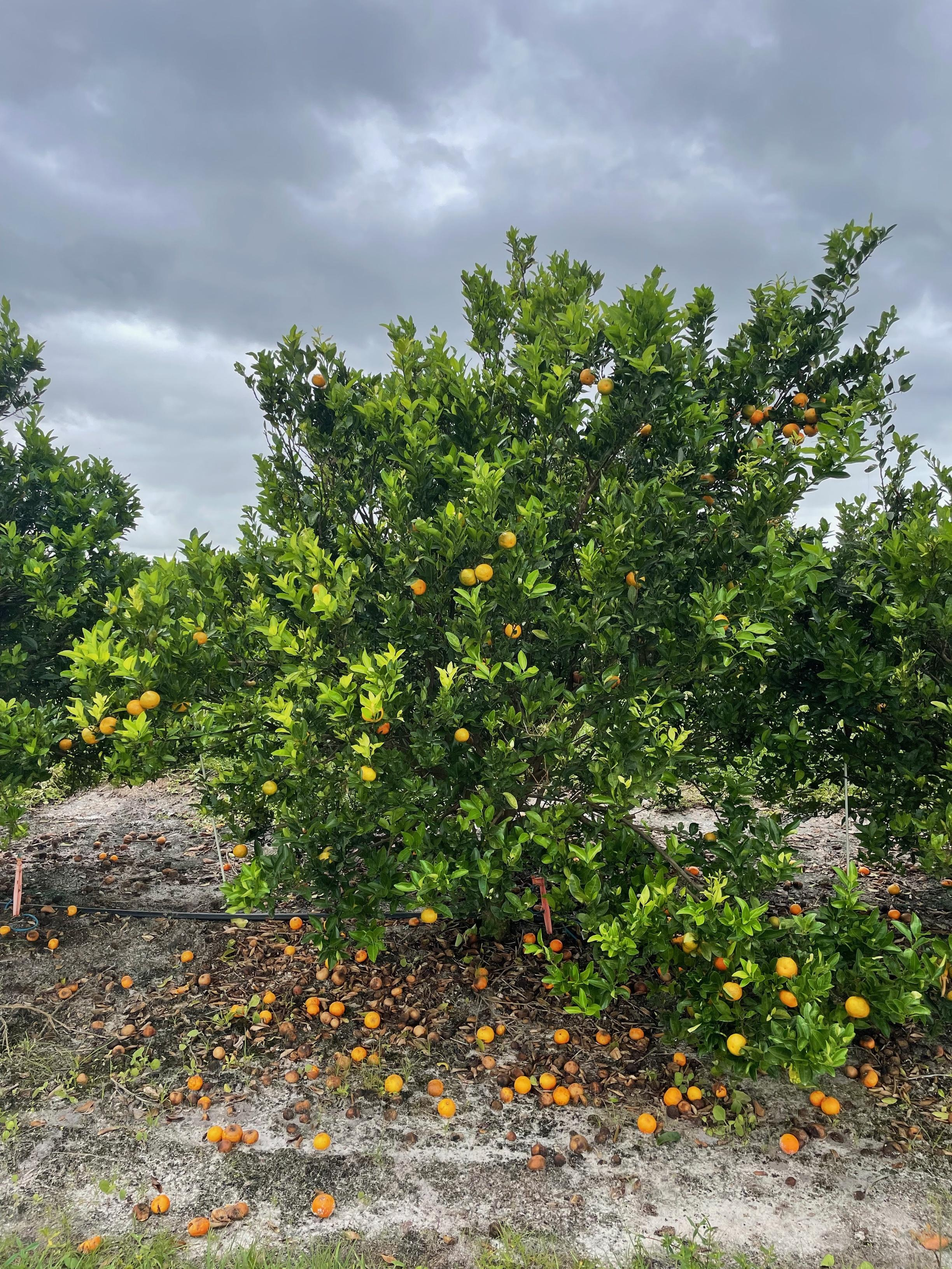fruit_on_ground: (843, 993, 872, 1020), (623, 567, 649, 591), (359, 702, 386, 725), (774, 956, 799, 980), (725, 1033, 749, 1057), (495, 528, 520, 551), (719, 979, 743, 1002), (473, 560, 495, 585), (291, 729, 315, 751), (501, 619, 524, 641), (98, 715, 121, 737), (458, 565, 480, 588), (577, 366, 599, 388), (80, 724, 102, 746), (126, 696, 147, 718), (139, 689, 161, 710), (595, 375, 616, 397), (169, 695, 192, 715), (452, 724, 473, 745), (748, 433, 769, 453), (681, 930, 701, 951), (781, 420, 802, 440), (259, 777, 280, 797), (358, 763, 378, 783), (408, 577, 428, 597), (778, 988, 799, 1007), (790, 391, 811, 409), (309, 371, 330, 389), (569, 667, 589, 685), (190, 629, 210, 647), (419, 906, 439, 924), (873, 696, 891, 715), (802, 421, 821, 439), (802, 406, 821, 424), (713, 954, 731, 972), (748, 408, 766, 426), (231, 843, 249, 860), (761, 405, 779, 421), (669, 930, 686, 946), (790, 431, 807, 447), (310, 582, 327, 598), (740, 403, 756, 420), (58, 737, 74, 752), (767, 914, 782, 929), (702, 831, 718, 844)
fruit_on_tree: (310, 1192, 336, 1219), (187, 1215, 211, 1237), (635, 1112, 658, 1134), (778, 1133, 800, 1155), (436, 1097, 457, 1118), (78, 1234, 101, 1253), (150, 1193, 171, 1213), (383, 1072, 404, 1092), (663, 1087, 683, 1107), (426, 1078, 446, 1098), (859, 1068, 880, 1087), (569, 1134, 590, 1153), (312, 1131, 333, 1150), (807, 1088, 827, 1107), (821, 1096, 841, 1115), (535, 1089, 556, 1107), (805, 1123, 826, 1141), (223, 1122, 242, 1141), (538, 1071, 557, 1090), (553, 1086, 572, 1105), (277, 1020, 297, 1038), (362, 1010, 382, 1028), (584, 1080, 605, 1097), (711, 1080, 729, 1099), (303, 996, 321, 1015), (476, 1024, 495, 1042), (552, 1026, 571, 1044), (526, 1154, 546, 1171), (514, 1074, 532, 1092), (205, 1125, 223, 1143), (185, 1073, 204, 1090), (568, 1081, 585, 1099), (671, 1050, 689, 1067), (686, 1083, 703, 1101), (594, 1028, 612, 1045), (329, 999, 347, 1016), (242, 1126, 259, 1144), (675, 1099, 694, 1115), (629, 979, 648, 995), (227, 1002, 246, 1018), (562, 1059, 579, 1076), (842, 1061, 859, 1078), (350, 1044, 367, 1061), (286, 915, 303, 932), (683, 862, 701, 878), (750, 1099, 766, 1117), (403, 1007, 422, 1022), (168, 1088, 184, 1105), (331, 968, 348, 984), (548, 937, 565, 953), (74, 1070, 90, 1087), (353, 947, 369, 963), (530, 1140, 546, 1156), (333, 1052, 350, 1067), (325, 1073, 342, 1088), (472, 975, 489, 990), (283, 1069, 300, 1084), (521, 930, 538, 945), (551, 1150, 568, 1165), (628, 1025, 645, 1040), (480, 1054, 497, 1069), (292, 1045, 310, 1059), (858, 1035, 876, 1049), (216, 1140, 234, 1154), (314, 964, 330, 979), (367, 1050, 382, 1066), (261, 989, 276, 1005), (141, 1022, 157, 1037), (211, 1044, 227, 1059), (304, 1063, 320, 1078), (257, 1008, 272, 1023), (197, 1095, 212, 1110), (494, 1021, 508, 1037), (368, 975, 383, 989), (427, 1029, 442, 1043), (24, 927, 39, 941), (121, 1022, 136, 1036), (887, 881, 902, 895), (498, 1084, 513, 1098), (119, 974, 134, 988), (198, 972, 213, 986), (789, 902, 804, 916), (57, 986, 73, 999), (329, 1014, 345, 1027), (856, 864, 872, 877), (474, 964, 490, 977), (179, 949, 195, 962), (490, 1098, 504, 1112), (283, 942, 297, 956), (47, 936, 61, 950), (899, 910, 914, 923), (655, 964, 670, 977), (413, 1024, 427, 1037), (505, 1129, 519, 1142), (291, 984, 304, 998), (390, 985, 404, 998), (65, 904, 79, 917), (111, 1044, 126, 1056), (246, 934, 259, 947), (220, 861, 234, 873), (560, 949, 574, 961), (162, 864, 177, 875), (66, 981, 79, 993), (155, 834, 168, 846), (1, 923, 13, 936), (888, 907, 901, 919), (464, 1014, 478, 1025), (406, 916, 420, 927), (597, 1066, 609, 1078), (406, 972, 418, 984), (463, 1033, 476, 1044), (792, 879, 804, 890), (109, 852, 120, 863), (72, 853, 84, 863), (939, 876, 951, 886), (137, 831, 149, 841), (96, 851, 108, 861), (122, 833, 133, 843), (102, 874, 113, 884), (92, 839, 103, 849), (127, 829, 138, 837)
